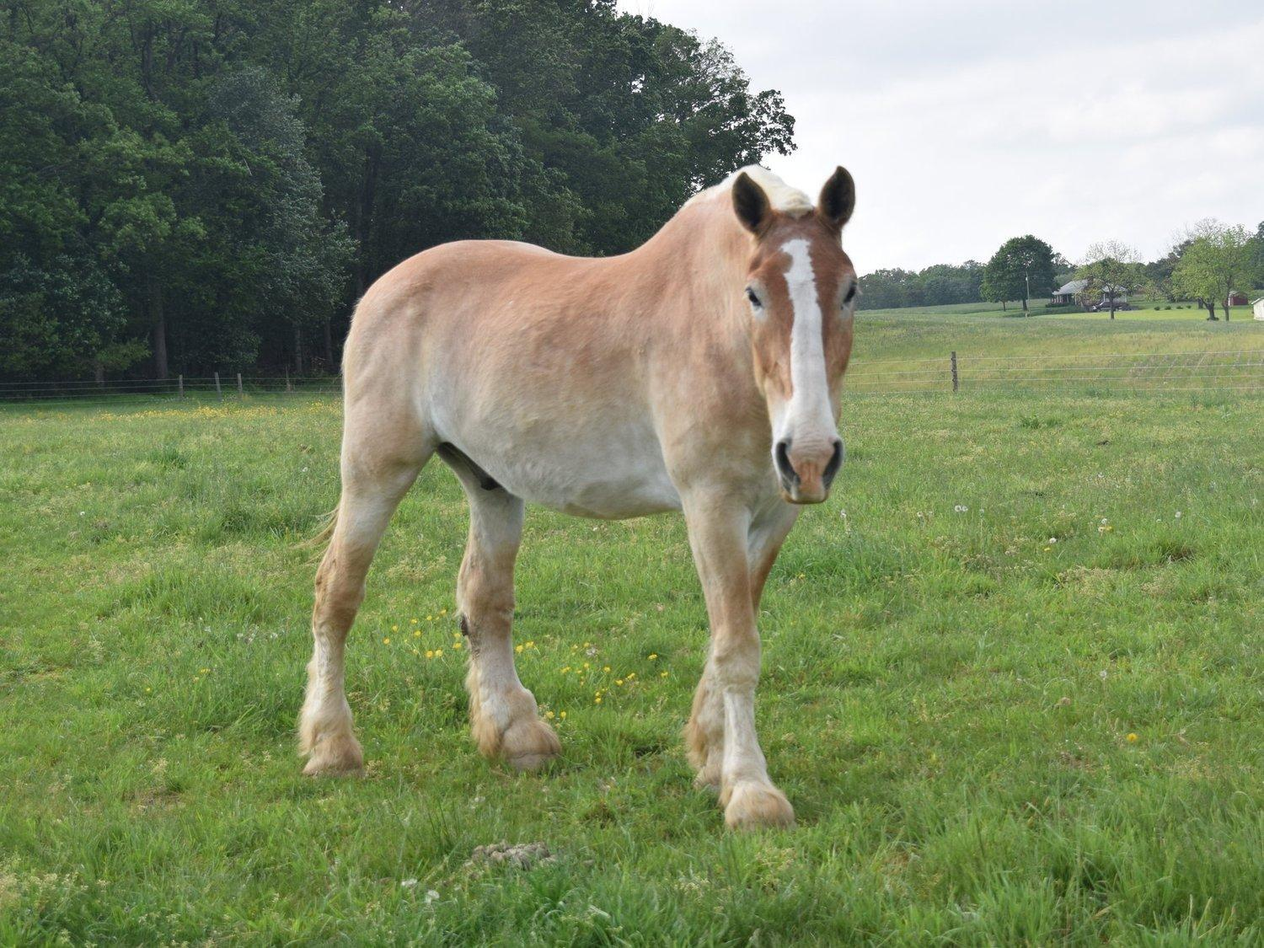horse: (287, 145, 867, 835)
